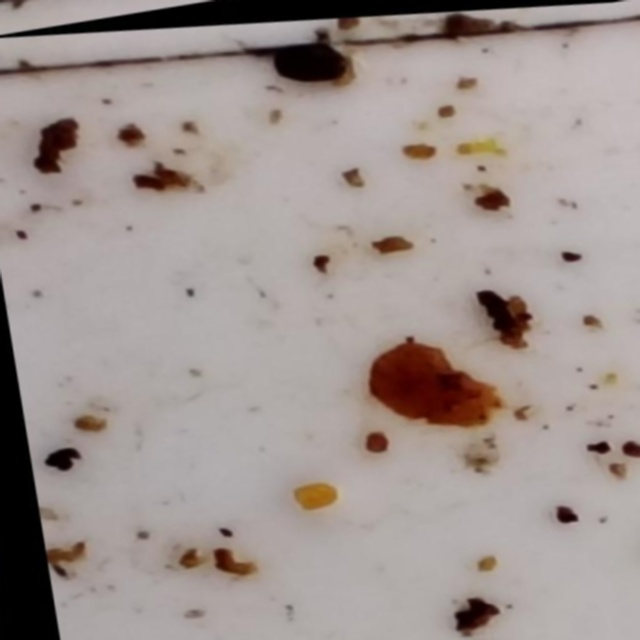varroa: (265, 32, 348, 87)
